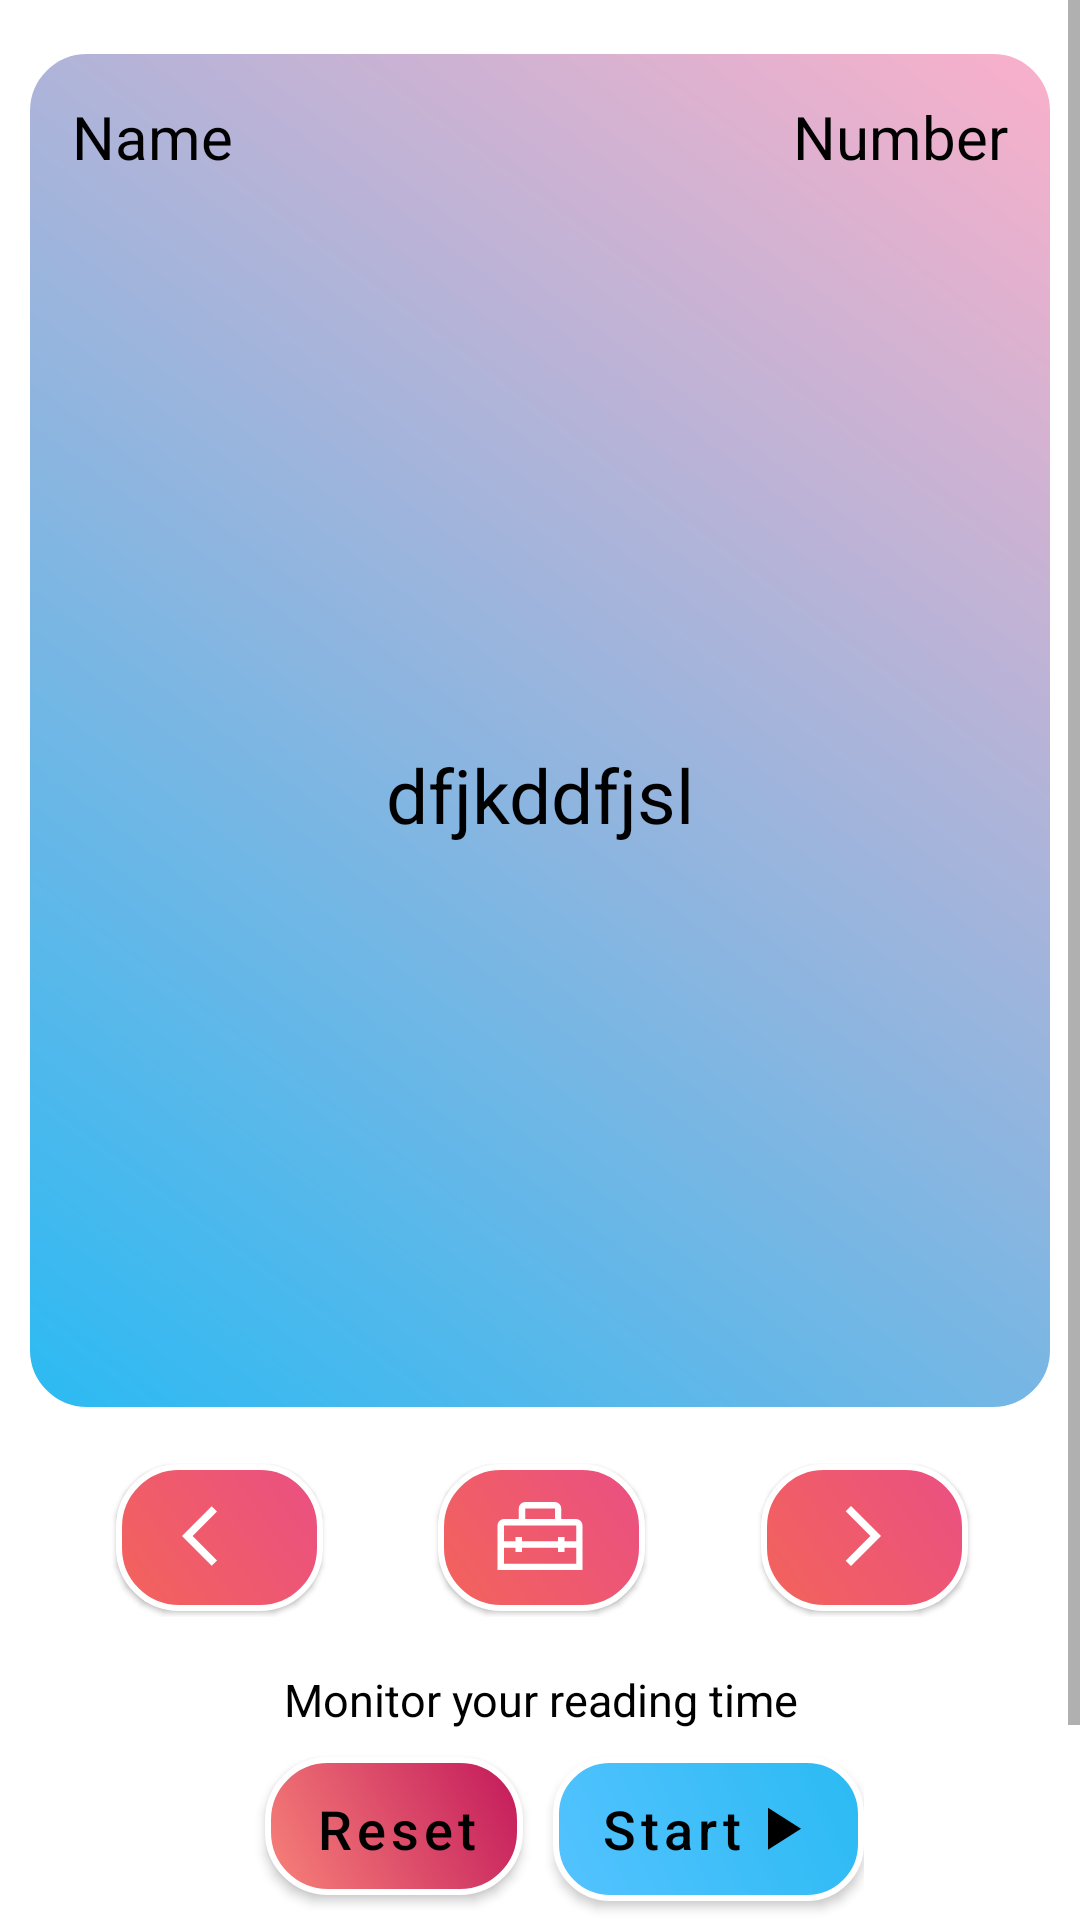

Icons on this 1080px x 1920px Android screen, each with the point to tap as (x=x, y=y):
arrow back: (x=219, y=1540)
arrow forward: (x=865, y=1540)
